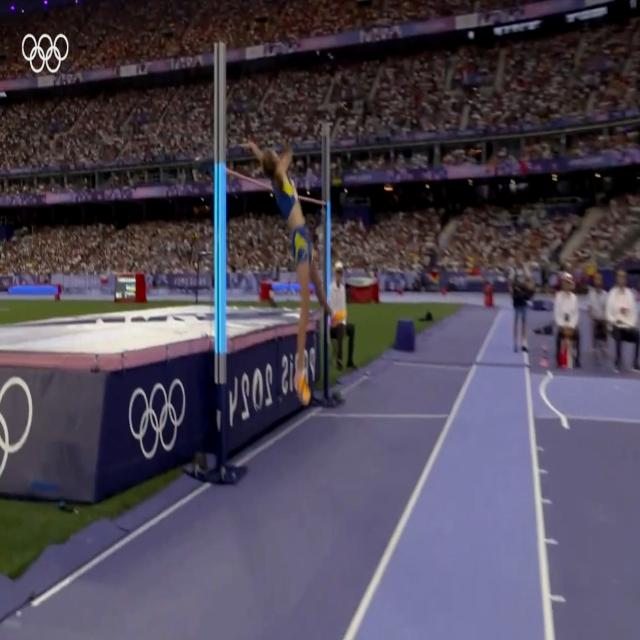jump: (239, 135, 348, 405)
